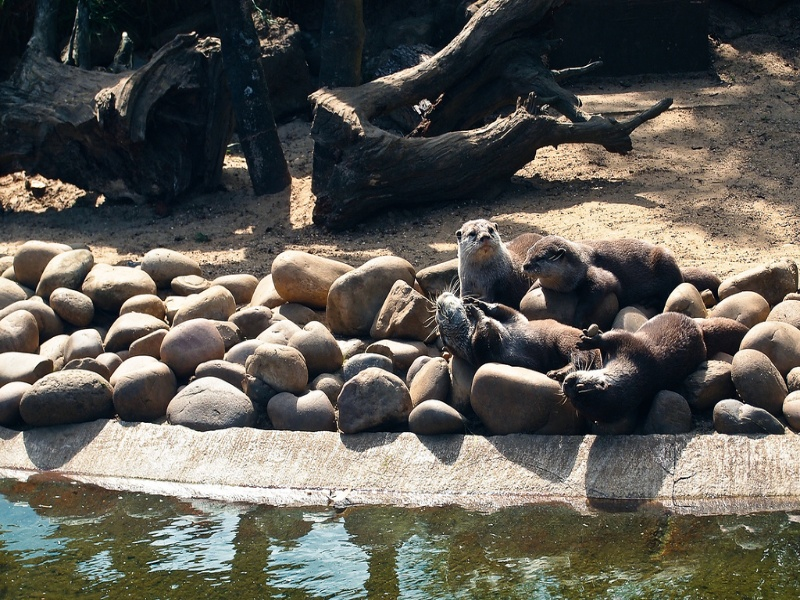minkish: (565, 306, 761, 423), (523, 232, 728, 312), (430, 289, 601, 383), (459, 220, 522, 301)
